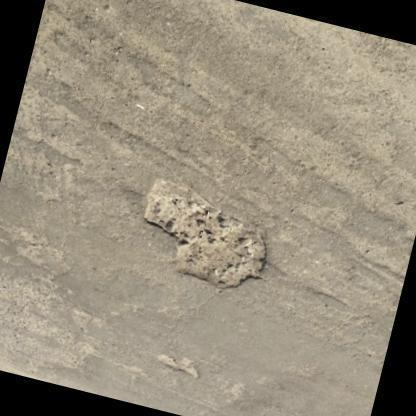pothole: (145, 176, 266, 288)
